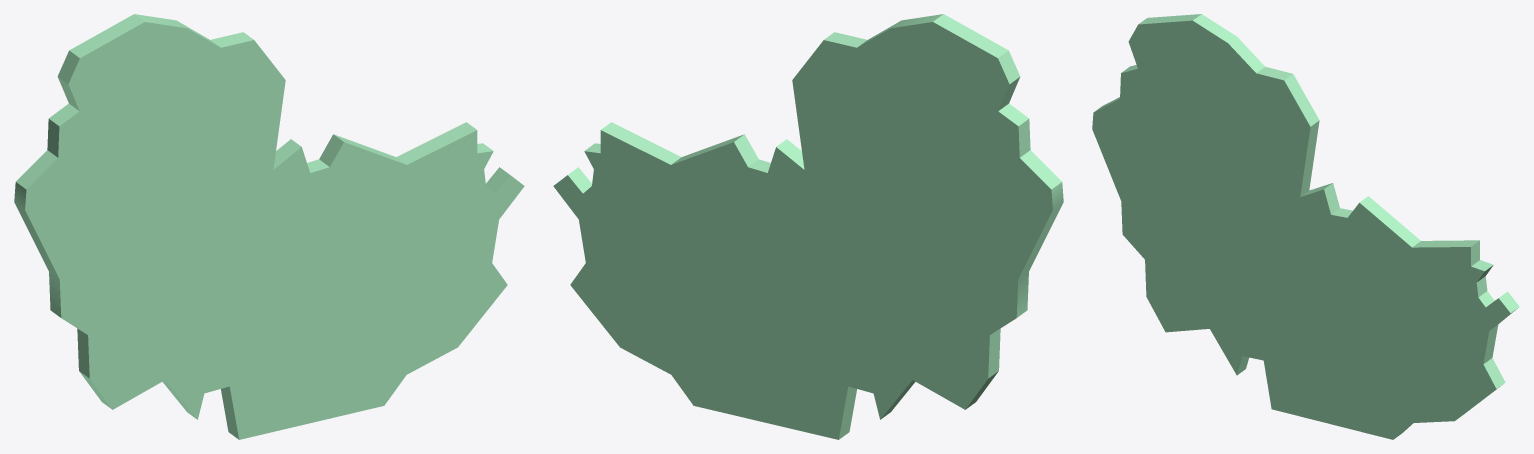
File: pueblo_nuevo.fbx
The picture shows the model from 3 angles, left to right: view 1: azimuth 30°, elevation 25°; view 2: azimuth 150°, elevation 25°; view 3: azimuth 330°, elevation 25°; orthographic projection. The views are drawn at different scales.
Parts seen in each view (by area): view 1: pueblo_nuevo; view 2: pueblo_nuevo; view 3: pueblo_nuevo.
Part boxes in pixels (<box>): pueblo_nuevo: <box>14,14,524,439</box>; pueblo_nuevo: <box>553,14,1063,439</box>; pueblo_nuevo: <box>1092,14,1519,439</box>.
Bounding box in the file's own units: 214 × 181 × 8.
